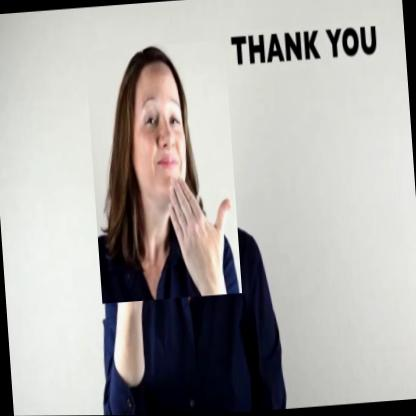ThankYou: (85, 41, 242, 305)
